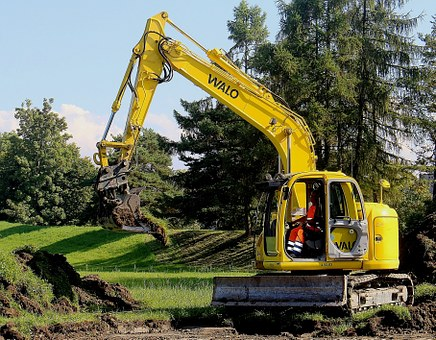excavator: (84, 8, 421, 328)
